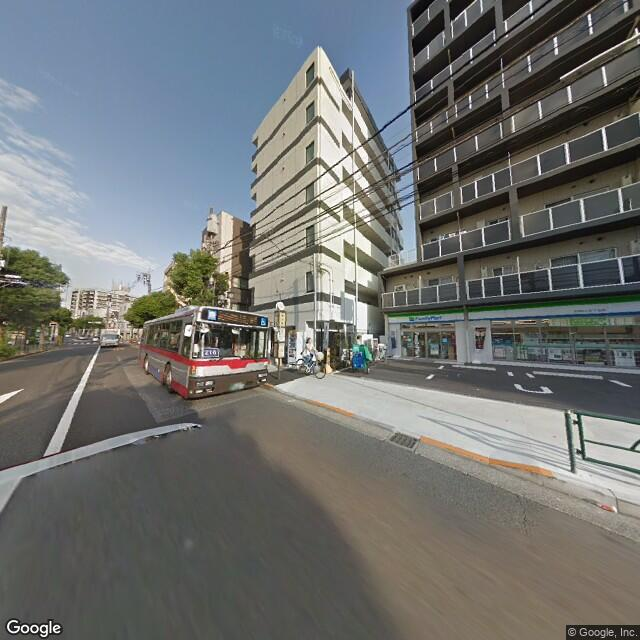family_mart: (385, 293, 637, 328)
